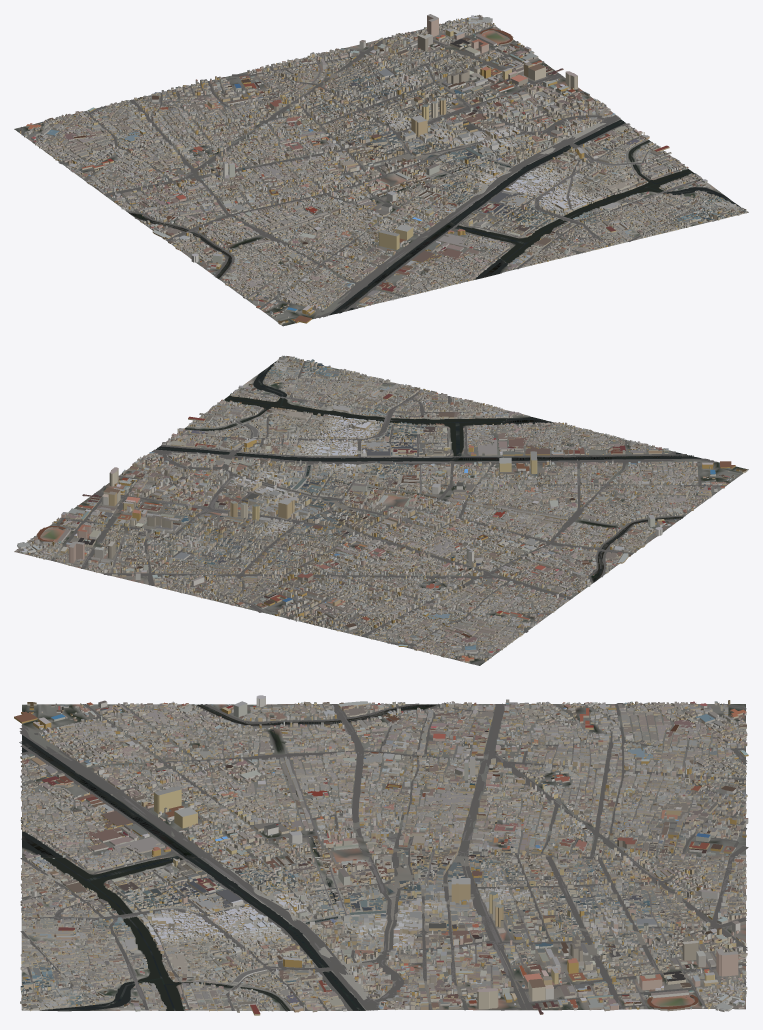
3 views of the same model, one above another, from view 1: azimuth 30°, elevation 25°; view 2: azimuth 150°, elevation 25°; view 3: azimuth 270°, elevation 25° (orthographic). The views are drawn at different scales.
Parts seen in each view (by area): view 1: buildings, ground, roads, water; view 2: buildings, ground, roads, water; view 3: buildings, ground, roads, water.
Part boxes in pixels (left/top/right/bottom): buildings: left=20, top=14, right=748, bottom=324; ground: left=14, top=15, right=748, bottom=326; roads: left=19, top=15, right=727, bottom=318; water: left=129, top=88, right=740, bottom=315; buildings: left=16, top=355, right=747, bottom=662; ground: left=14, top=356, right=748, bottom=665; roads: left=17, top=361, right=726, bottom=664; water: left=150, top=361, right=701, bottom=581; buildings: left=14, top=695, right=748, bottom=1015; ground: left=21, top=704, right=745, bottom=1011; roads: left=19, top=703, right=748, bottom=1010; water: left=19, top=704, right=460, bottom=1010.
Size of the model in its own units: 2857 by 101 by 2843.
